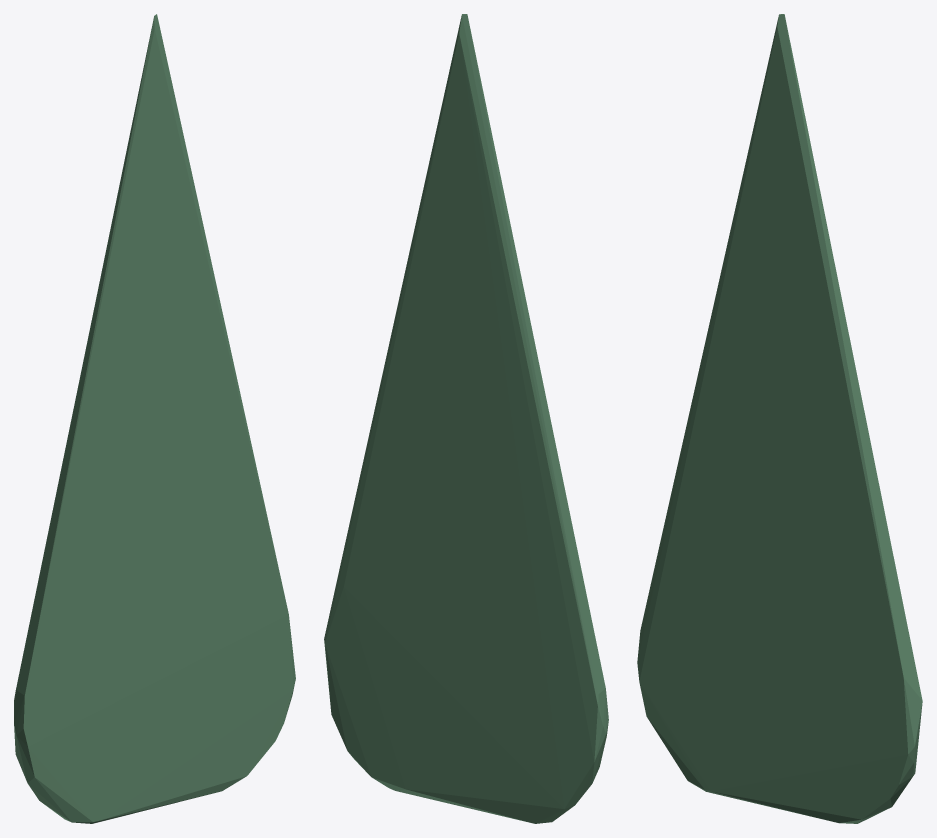
Rendered from utensils_scissors_f01.glb.
3 views of the same model, side by side, from view 1: azimuth 30°, elevation 25°; view 2: azimuth 150°, elevation 25°; view 3: azimuth 330°, elevation 25° (orthographic).
Parts seen in each view (by area): view 1: geometry_0; view 2: geometry_0; view 3: geometry_0.
Boxes of the visible parts, x1=… form: geometry_0: x1=14, y1=14, x2=295, y2=823; geometry_0: x1=324, y1=14, x2=608, y2=823; geometry_0: x1=637, y1=14, x2=922, y2=823.
Size of the model in its own units: 0.1757 by 0.4799 by 0.0161.
